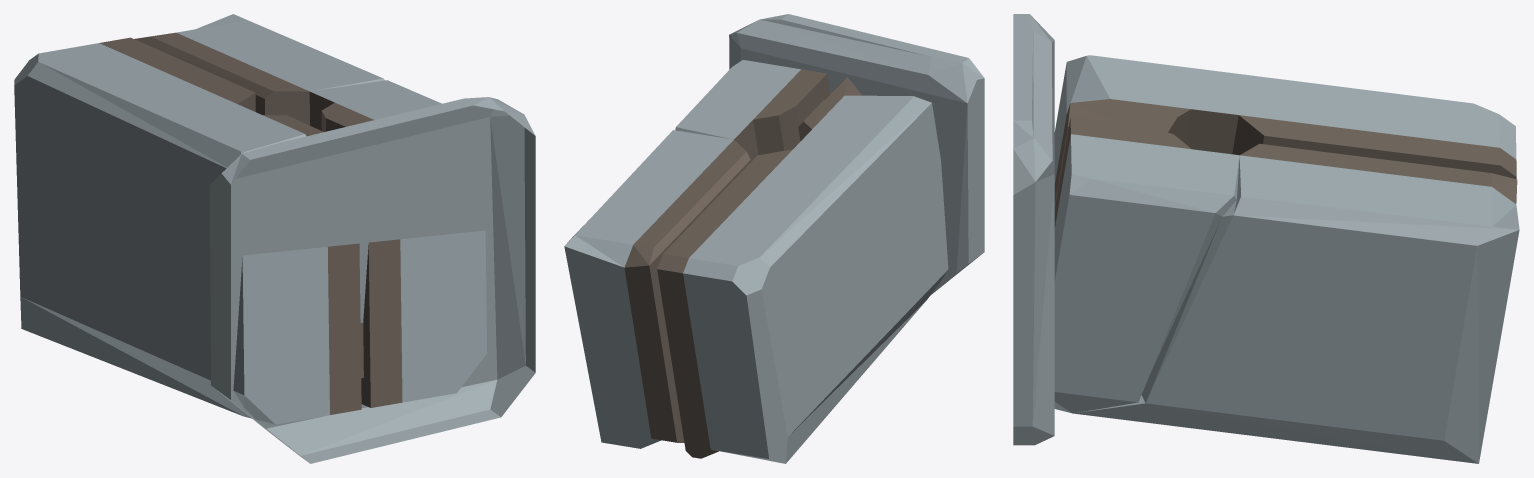
File: Stone Tomb 01.FBX
3 views of the same model, side by side, from view 1: azimuth 30°, elevation 25°; view 2: azimuth 150°, elevation 25°; view 3: azimuth 270°, elevation 25° (orthographic). The views are drawn at different scales.
Parts seen in each view (by area): view 1: Stone Tomb 01; view 2: Stone Tomb 01; view 3: Stone Tomb 01.
Part boxes in pixels (box(x1,y1,x2,y2)): Stone Tomb 01: box(14, 14, 535, 463); Stone Tomb 01: box(564, 14, 984, 463); Stone Tomb 01: box(1013, 14, 1519, 463).
Bounding box in the file's own units: 354 × 521 × 394.
